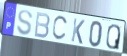0: (88, 20, 104, 48)
B: (33, 12, 51, 40)
C: (51, 16, 69, 42)
K: (71, 17, 86, 46)
Q: (105, 24, 121, 52)
S: (16, 9, 34, 37)
